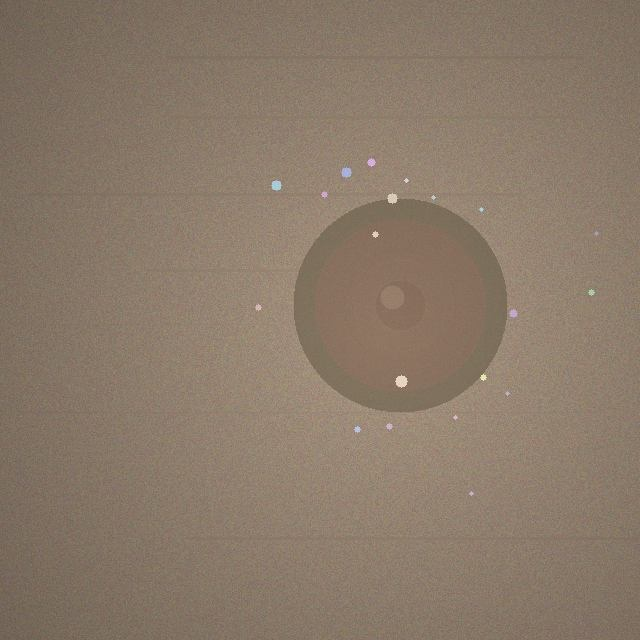overburn: (293, 198, 507, 412)
